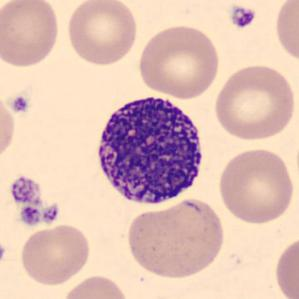Basophil: (89, 87, 210, 211)
Platelets: (8, 175, 40, 206), (228, 4, 258, 30), (18, 204, 42, 228), (40, 202, 60, 225), (9, 93, 30, 114), (0, 241, 7, 266)
RBC: (125, 197, 228, 281), (211, 61, 297, 143), (135, 22, 223, 100), (215, 146, 297, 226), (64, 0, 140, 68), (17, 222, 92, 287), (0, 0, 62, 69), (61, 272, 131, 299), (272, 232, 299, 299), (272, 0, 299, 65), (0, 89, 18, 165)
